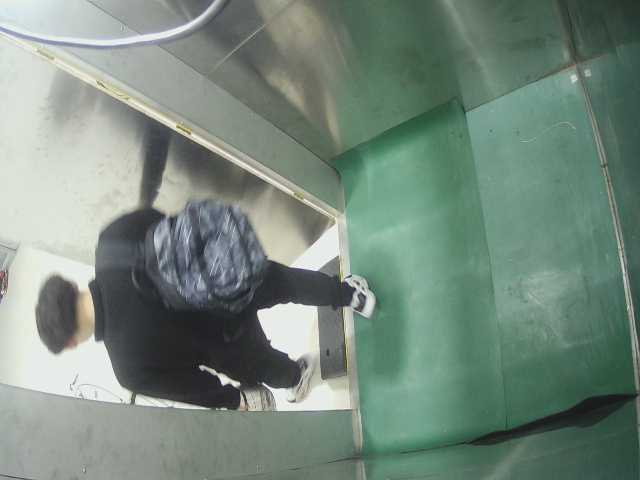bag: (150, 197, 274, 326)
person: (29, 199, 395, 416)
